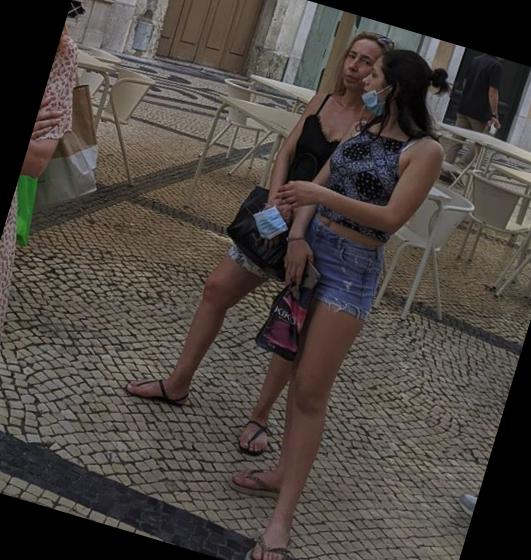mask_weared_incorrect: (358, 64, 391, 112)
without_mask: (332, 42, 376, 90)
